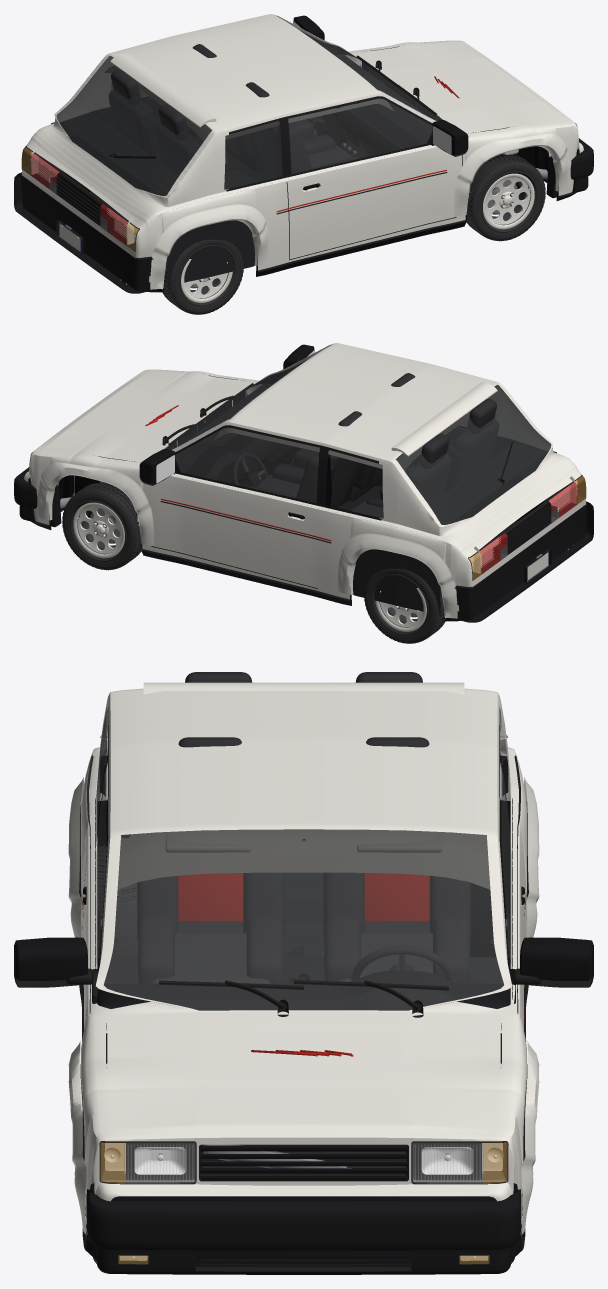
The model's file is hatch_studio.glb.
3 views of the same model, one above another, from view 1: azimuth 30°, elevation 25°; view 2: azimuth 150°, elevation 25°; view 3: azimuth 270°, elevation 25° (orthographic). The views are drawn at different scales.
Visible parts, largest first — view 1: body, hood, wheel_fr, wheel_rr, bay, lamp_tail, lamp_amber; view 2: body, hood, wheel_fl, wheel_rl, bay, lamp_tail, lamp_amber; view 3: body, hood, lamp_head, bay, lamp_amber, wheel_rr.
Part boxes in pixels (left/top/right/bottom): body: left=14, top=14, right=593, bottom=293; hood: left=358, top=42, right=564, bottom=133; wheel_fr: left=466, top=153, right=545, bottom=241; wheel_rr: left=162, top=239, right=243, bottom=314; bay: left=360, top=61, right=551, bottom=195; lamp_tail: left=30, top=85, right=167, bottom=244; lamp_amber: left=22, top=147, right=138, bottom=251; body: left=14, top=343, right=593, bottom=622; hood: left=43, top=371, right=249, bottom=462; wheel_fl: left=62, top=481, right=141, bottom=570; wheel_rl: left=364, top=568, right=445, bottom=643; bay: left=56, top=390, right=247, bottom=524; lamp_tail: left=440, top=414, right=577, bottom=573; lamp_amber: left=469, top=476, right=585, bottom=580; body: left=14, top=672, right=593, bottom=1274; hood: left=106, top=1017, right=501, bottom=1129; lamp_head: left=125, top=1143, right=482, bottom=1183; bay: left=202, top=1050, right=405, bottom=1168; lamp_amber: left=100, top=1142, right=507, bottom=1263; wheel_rr: left=97, top=846, right=137, bottom=956.
Size of the model in its own units: 3.77 by 1.4 by 2.24.
